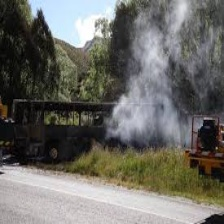smoke: (109, 35, 214, 140)
